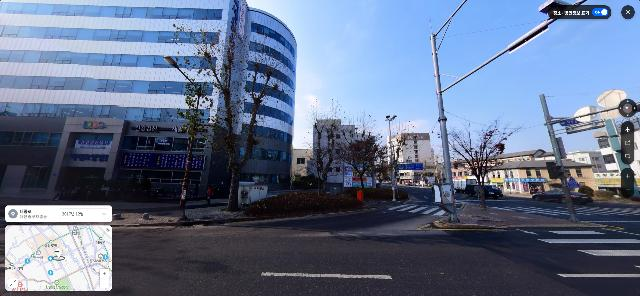other: (171, 9, 292, 213), (432, 115, 524, 209), (300, 94, 348, 193), (342, 109, 389, 193), (389, 118, 427, 189), (419, 149, 444, 187)
